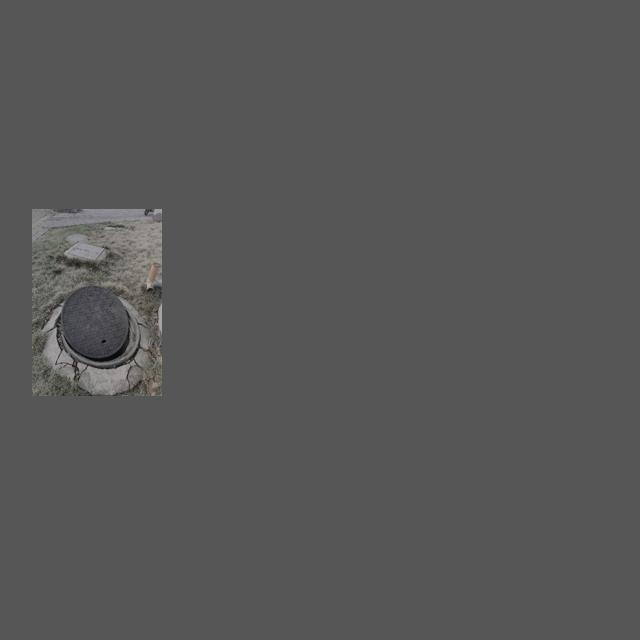good: (68, 241, 105, 263)
uncovered: (60, 285, 140, 367)
